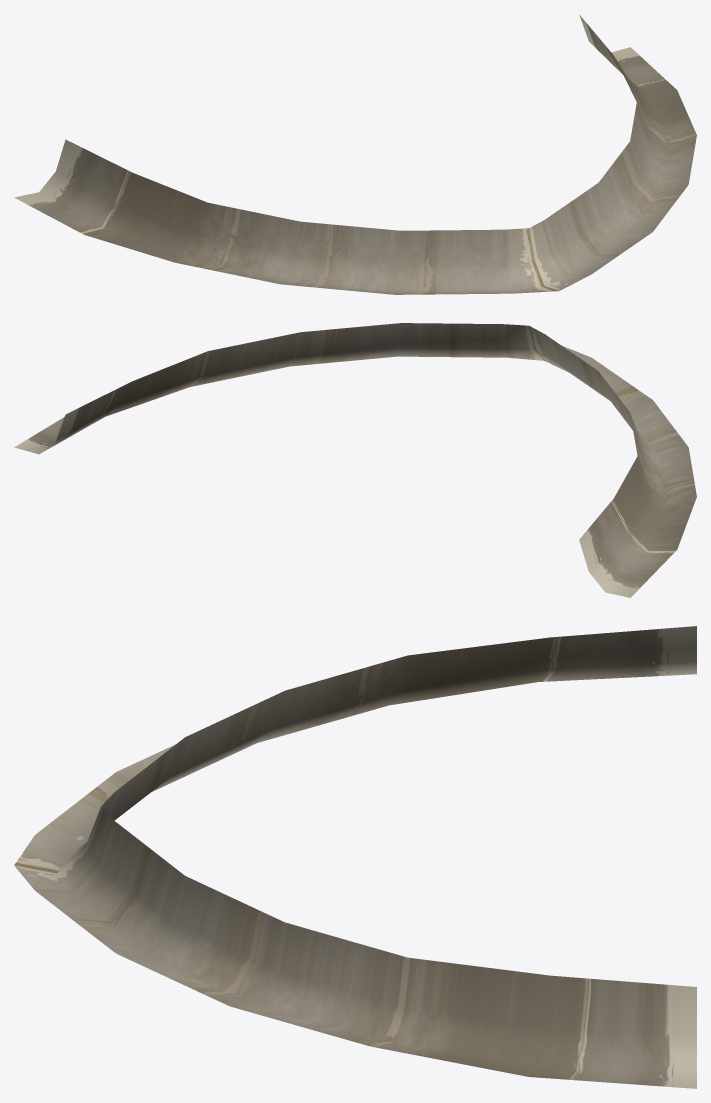
File: Cath_HalfArch_s.FBX
3 views of the same model, one above another, from view 1: azimuth 30°, elevation 25°; view 2: azimuth 150°, elevation 25°; view 3: azimuth 270°, elevation 25° (orthographic). The views are drawn at different scales.
Parts seen in each view (by area): view 1: Cath_HalfArch_s; view 2: Cath_HalfArch_s; view 3: Cath_HalfArch_s.
Part boxes in pixels (x1,y1,x2,y2): Cath_HalfArch_s: (14,15,696,294); Cath_HalfArch_s: (14,323,696,597); Cath_HalfArch_s: (14,626,696,1088).
Bounding box in the file's own units: 328 × 219 × 23.63.
